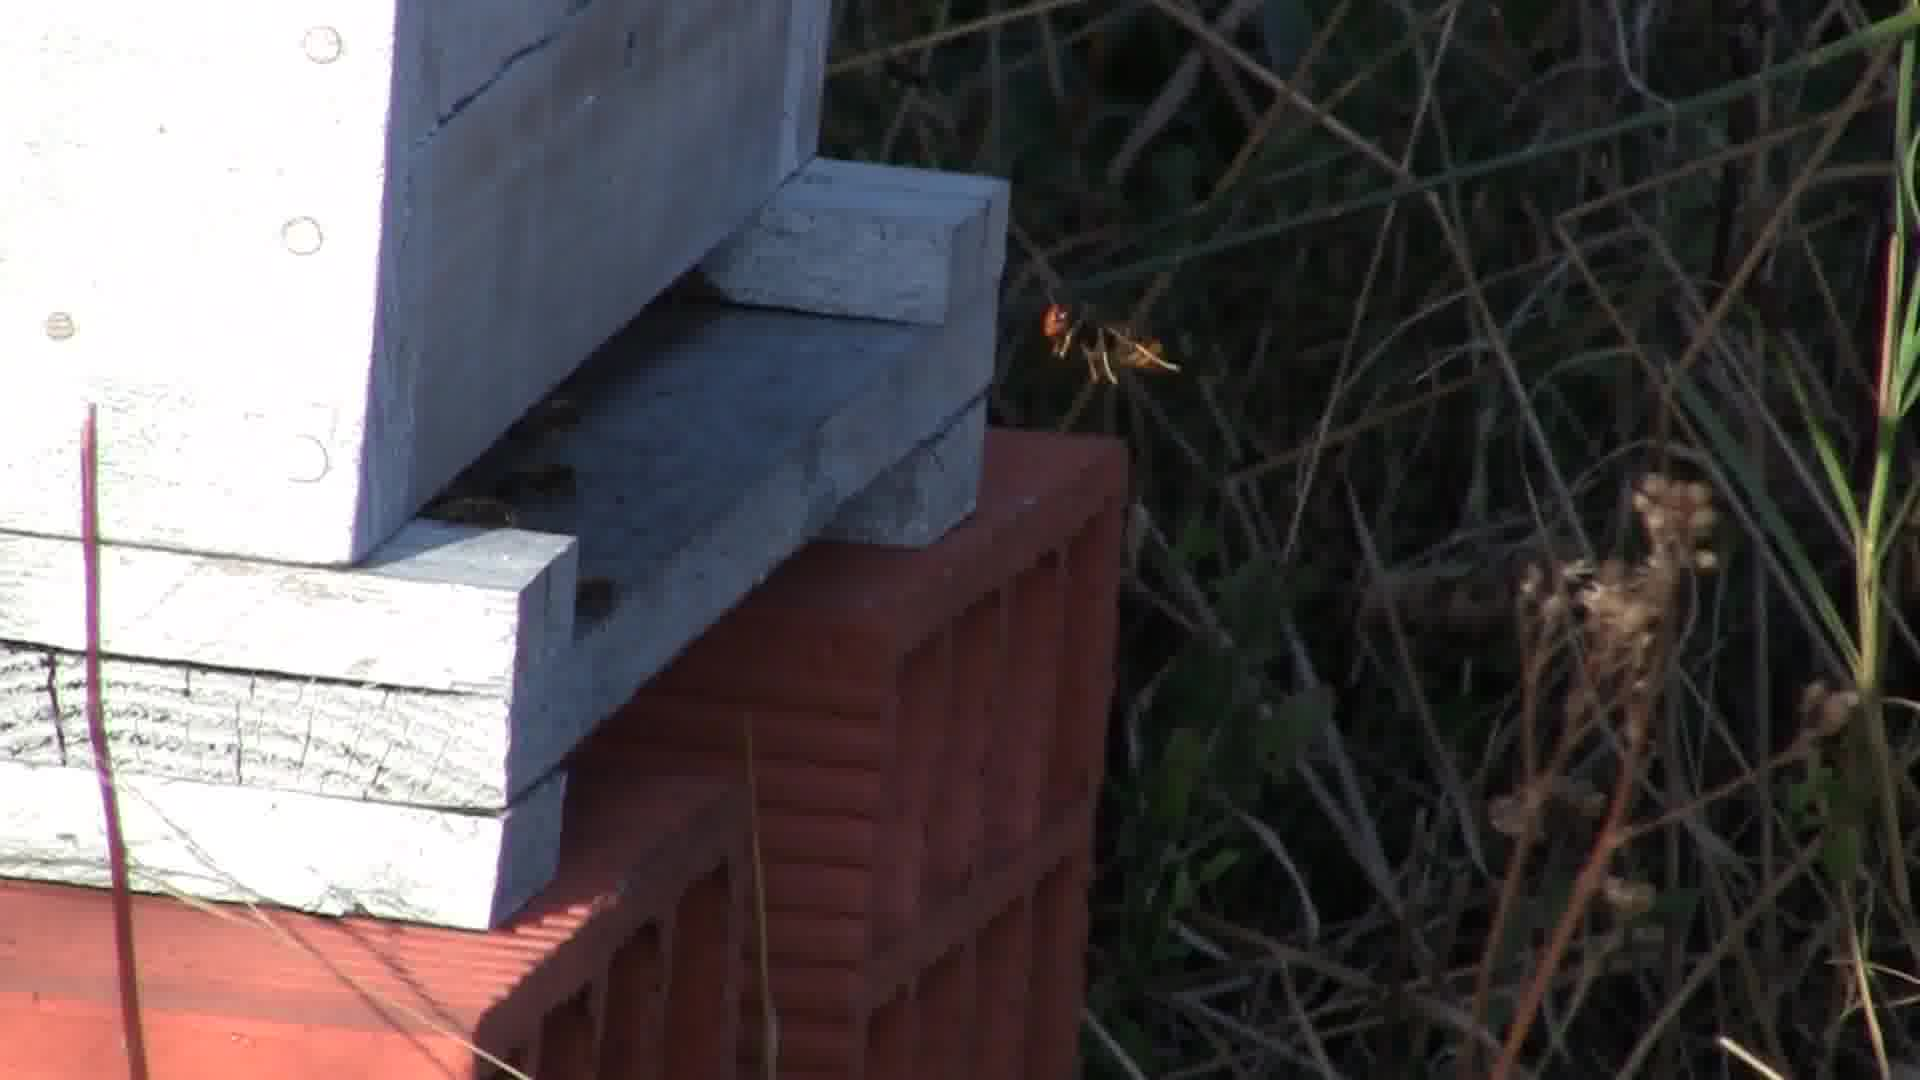hornet: (1035, 291, 1182, 398)
